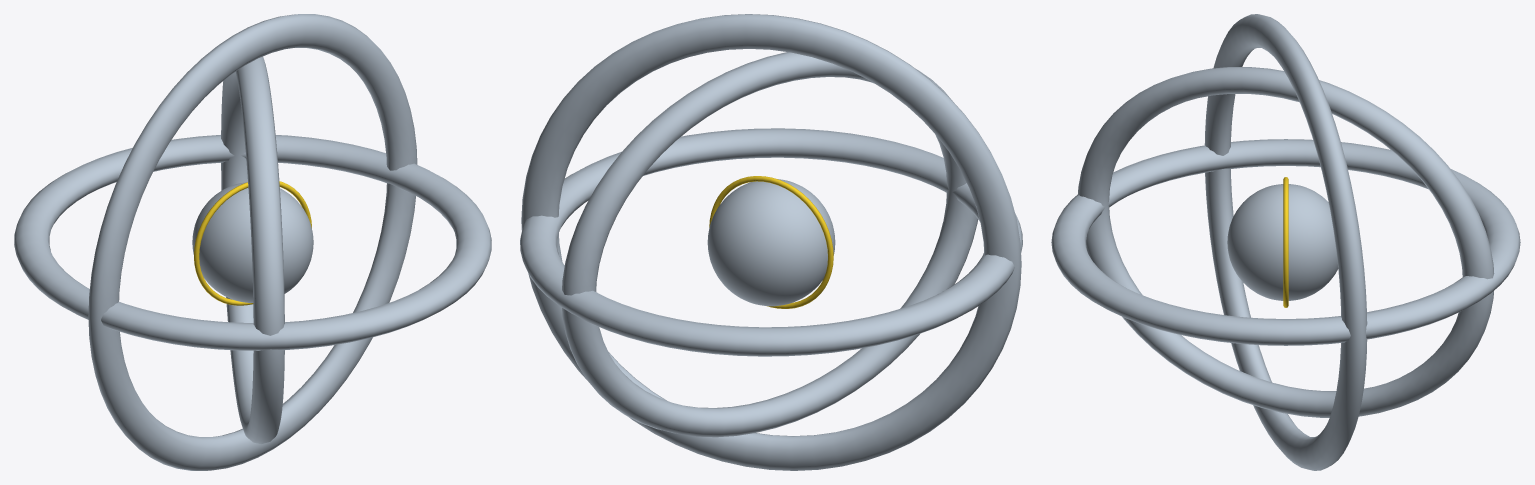
File: hero.glb
3 renders of one model, left to right at view 1: azimuth 30°, elevation 25°; view 2: azimuth 150°, elevation 25°; view 3: azimuth 270°, elevation 25°, orthographic. The views are drawn at different scales.
Visible parts, largest first — view 1: Orbital band B, Orbital band A, Orbital band C, Chrome signal core, Yellow edit marker; view 2: Orbital band B, Orbital band C, Orbital band A, Chrome signal core, Yellow edit marker; view 3: Orbital band C, Orbital band A, Orbital band B, Chrome signal core, Yellow edit marker.
Boxes of the visible parts, <box> form: Orbital band B: <box>88,14,417,470</box>; Orbital band A: <box>14,135,491,350</box>; Orbital band C: <box>221,56,284,444</box>; Chrome signal core: <box>192,182,313,302</box>; Yellow edit marker: <box>194,181,311,305</box>; Orbital band B: <box>521,14,1021,470</box>; Orbital band C: <box>562,52,977,437</box>; Orbital band A: <box>520,128,1022,356</box>; Chrome signal core: <box>707,179,835,306</box>; Yellow edit marker: <box>709,176,833,308</box>; Orbital band C: <box>1077,67,1494,417</box>; Orbital band A: <box>1051,139,1520,345</box>; Orbital band B: <box>1204,14,1367,470</box>; Chrome signal core: <box>1227,184,1338,300</box>; Yellow edit marker: <box>1283,177,1288,307</box>.
Size of the model in its own units: 4.23 by 4.23 by 4.32.
